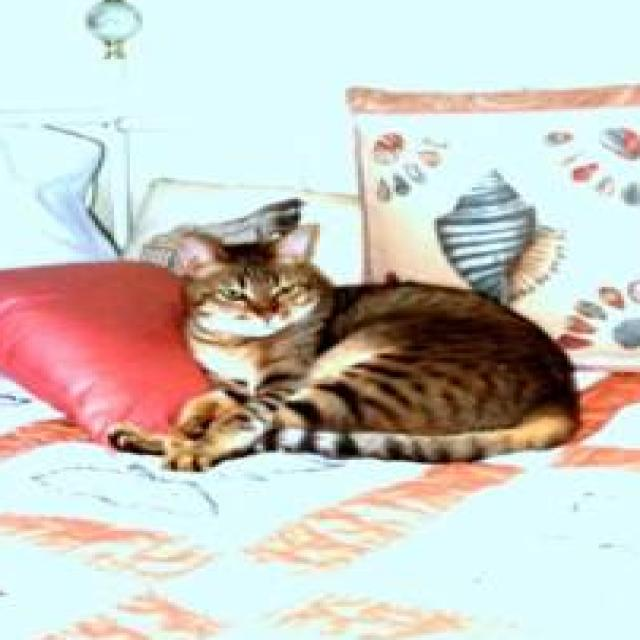Bengal: (100, 198, 592, 486)
